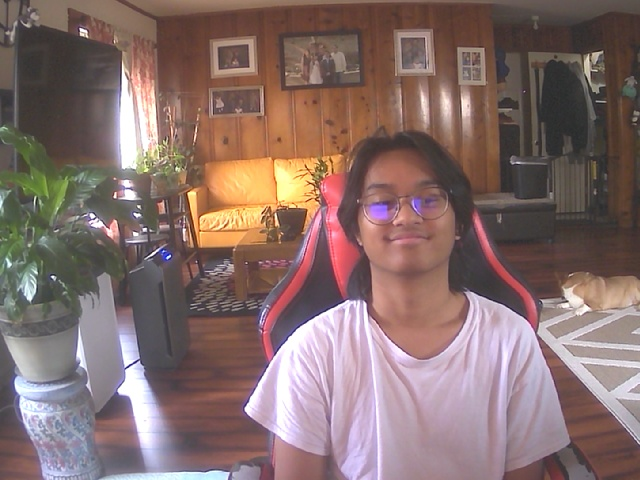happy: (350, 139, 465, 276)
